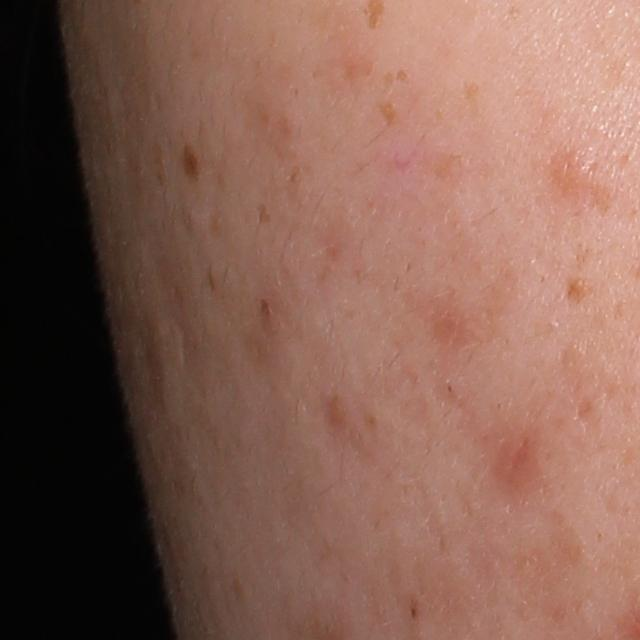comedo: (443, 382, 455, 395)
melasma: (376, 98, 398, 131), (394, 68, 410, 85)
papule: (491, 428, 548, 494), (547, 142, 590, 194)
